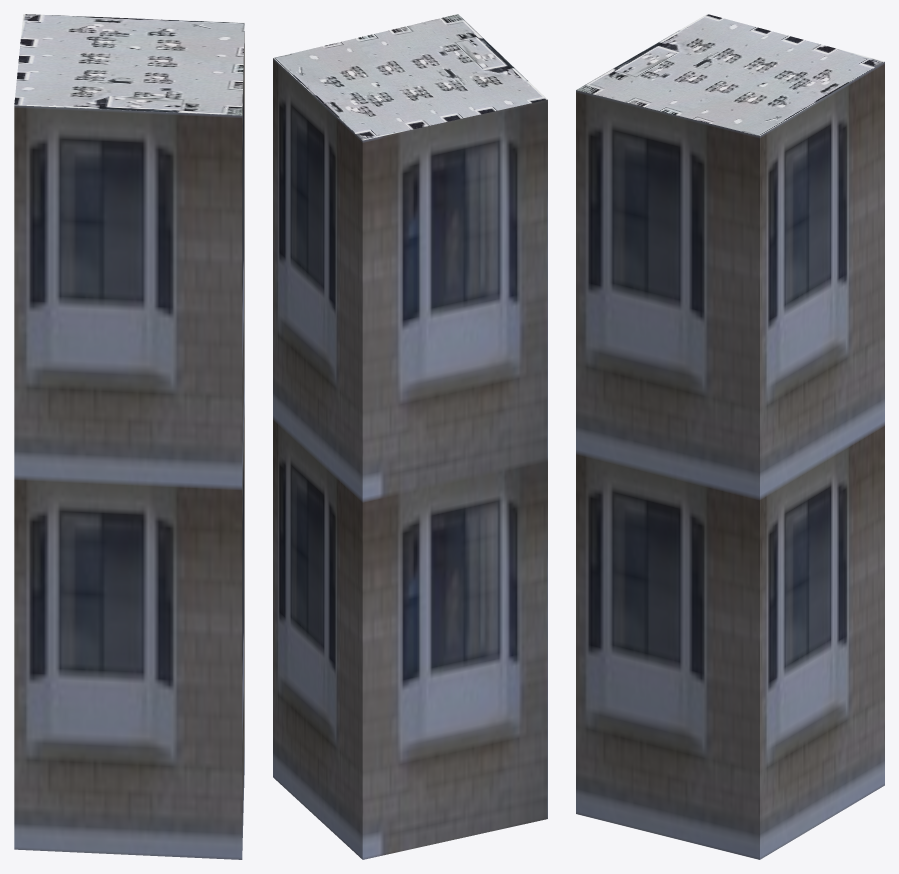
File: ResTex__1842.fbx
3 renders of one model, left to right at view 1: azimuth 30°, elevation 25°; view 2: azimuth 150°, elevation 25°; view 3: azimuth 270°, elevation 25°, orthographic. The views are drawn at different scales.
Parts seen in each view (by area): view 1: CityEngineMaterial_3_m, CityEngineMaterial_m; view 2: CityEngineMaterial_3_m, CityEngineMaterial_m; view 3: CityEngineMaterial_3_m, CityEngineMaterial_m.
Part boxes in pixels (x1,y1,x2,y2): CityEngineMaterial_3_m: (14,31,244,859); CityEngineMaterial_m: (14,14,244,115); CityEngineMaterial_3_m: (273,58,547,859); CityEngineMaterial_m: (273,14,547,140); CityEngineMaterial_3_m: (576,62,884,859); CityEngineMaterial_m: (576,14,884,135).
Bounding box in the file's own units: 2.17 × 6 × 2.32.
2 materials, 2 textured.
